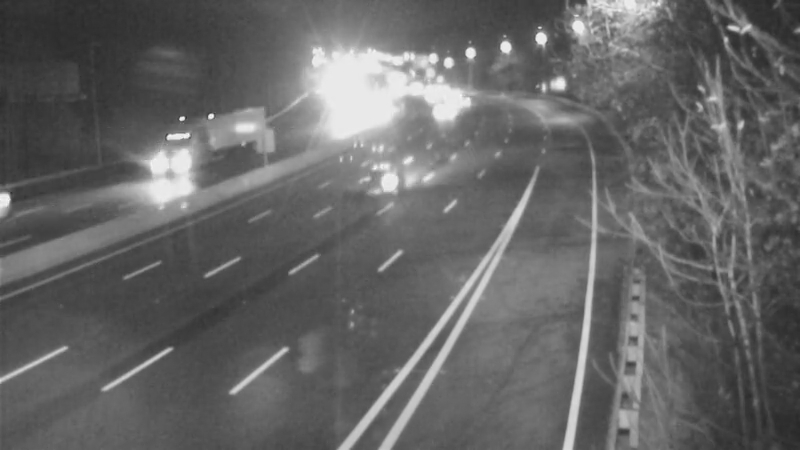vehicle: (336, 141, 416, 221), (122, 127, 202, 207), (1, 161, 66, 241), (403, 70, 453, 120), (435, 77, 485, 127), (415, 84, 465, 134)
